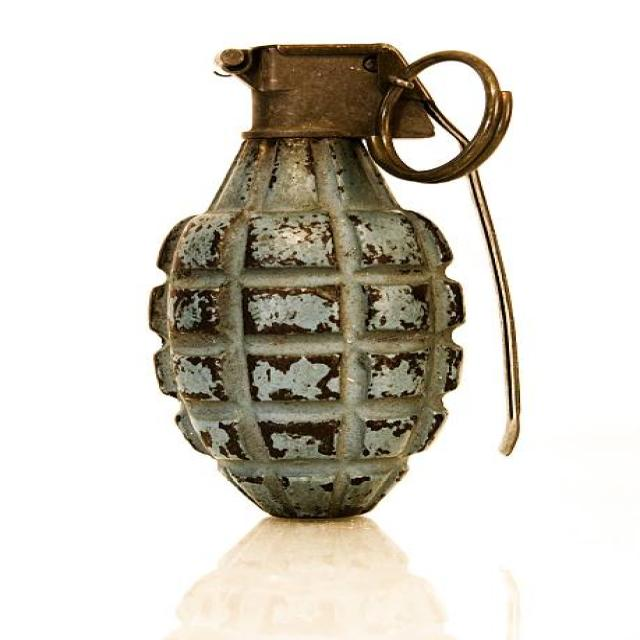grenade: (143, 30, 540, 522)
